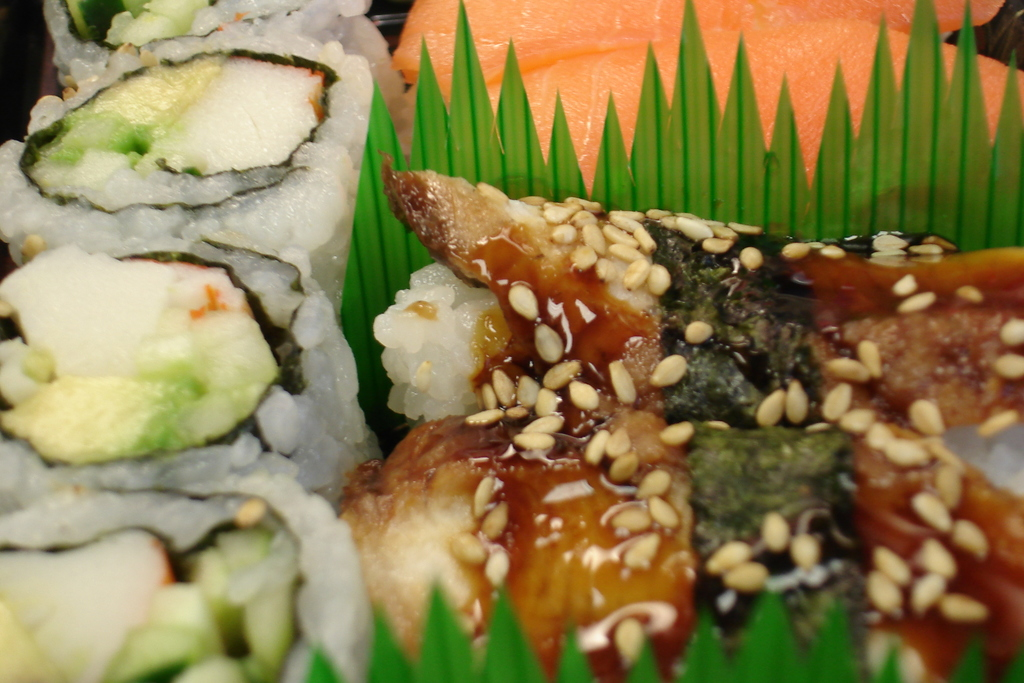sushi: (0, 0, 1023, 682), (10, 39, 391, 306)
